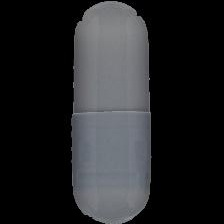42291-328: (0, 0, 224, 224)
